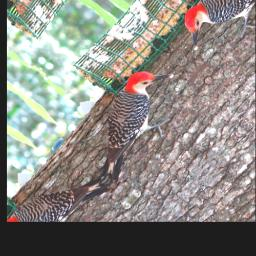Woodpecker: (66, 56, 202, 190)
